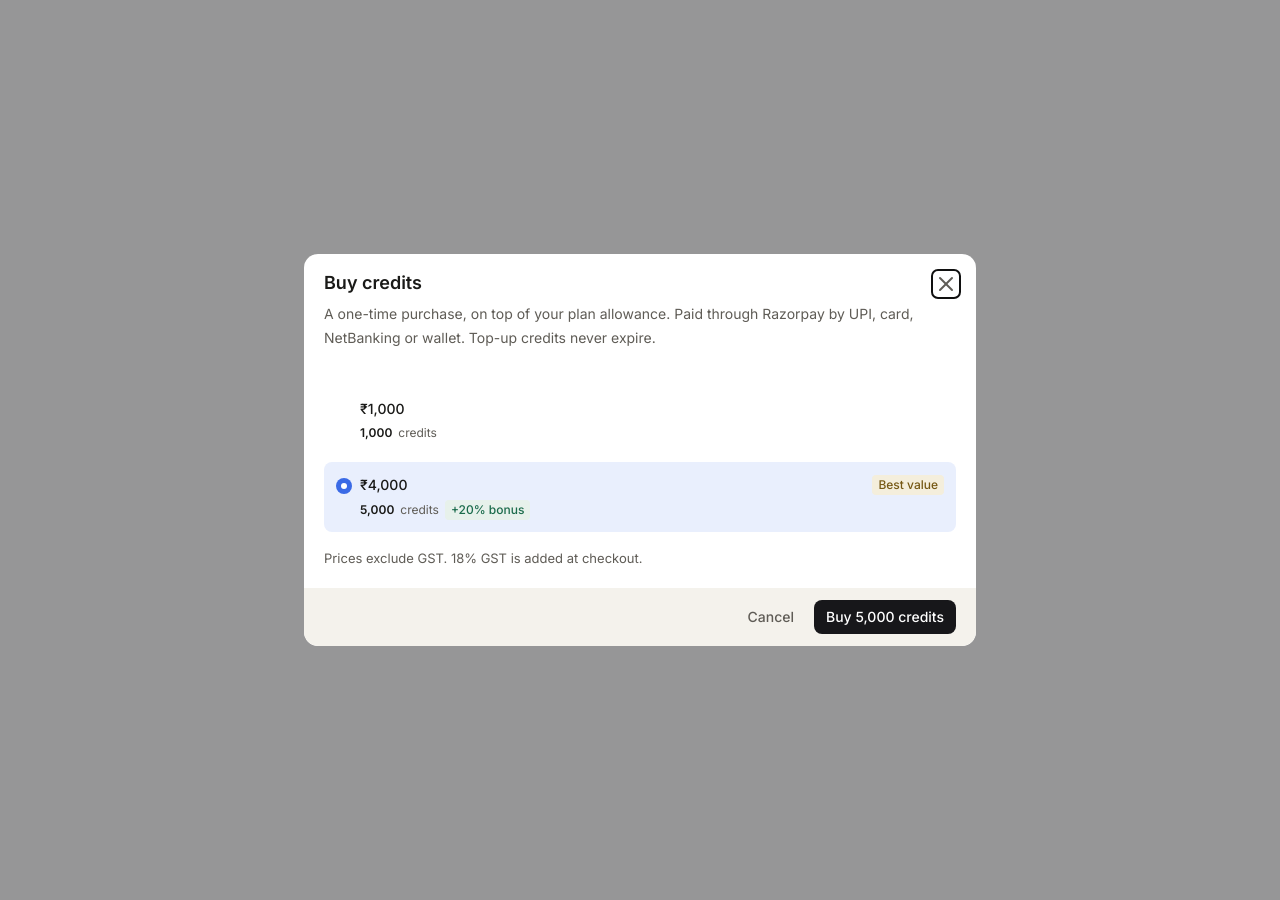
Test case: choosing a pack › opens with the recommended pack selected and does not charge on card click
This screenshot has width=1280, height=900.
Expected: the button "Buy 5,000 credits" is shown, [814,600,956,634]
// Clicking a card selects it — it must not start a checkout.
Click the radio button labelled "₹1,000": (382, 408) [324,386,956,454]
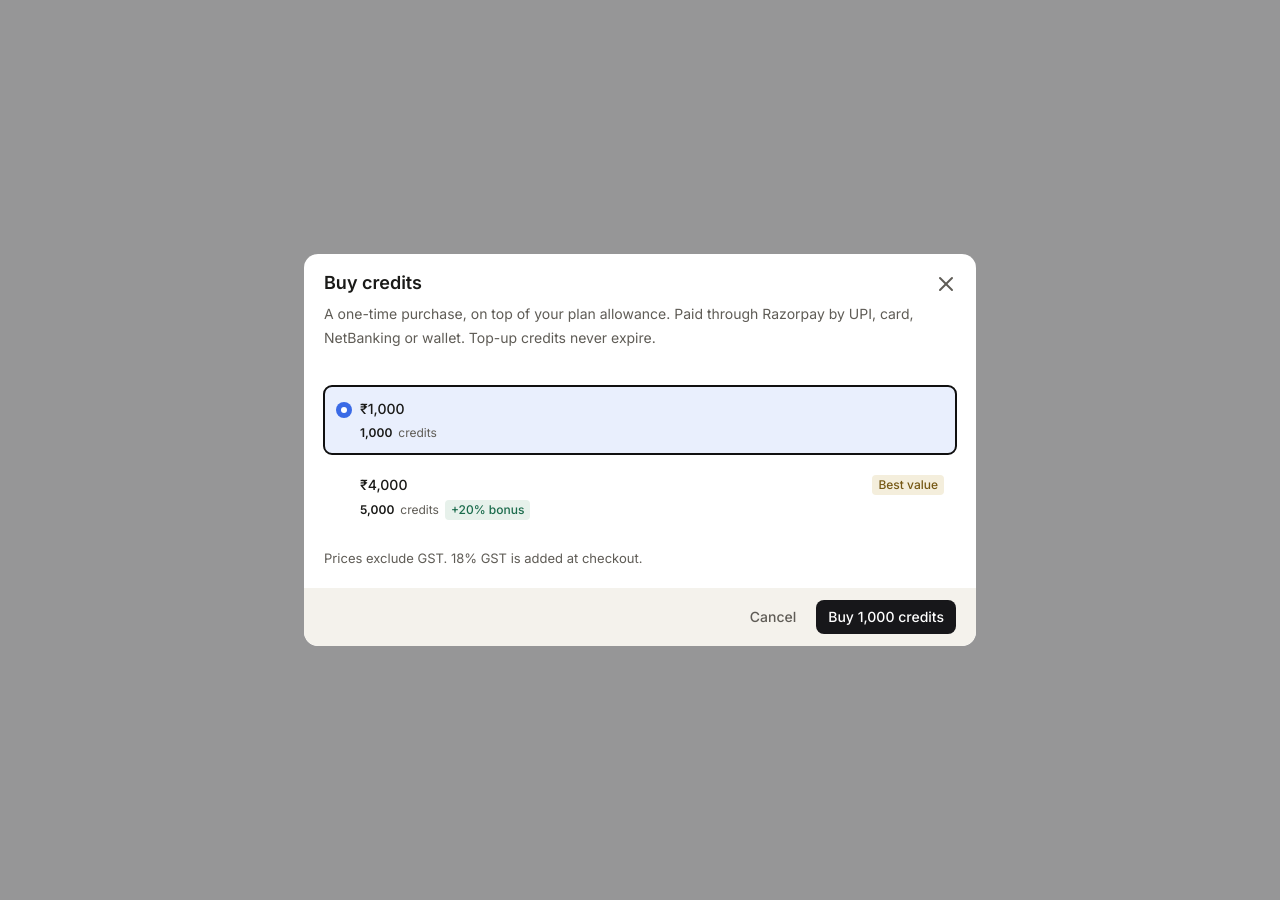
Expected: the button "Buy 1,000 credits" is shown, [816,600,956,634]
